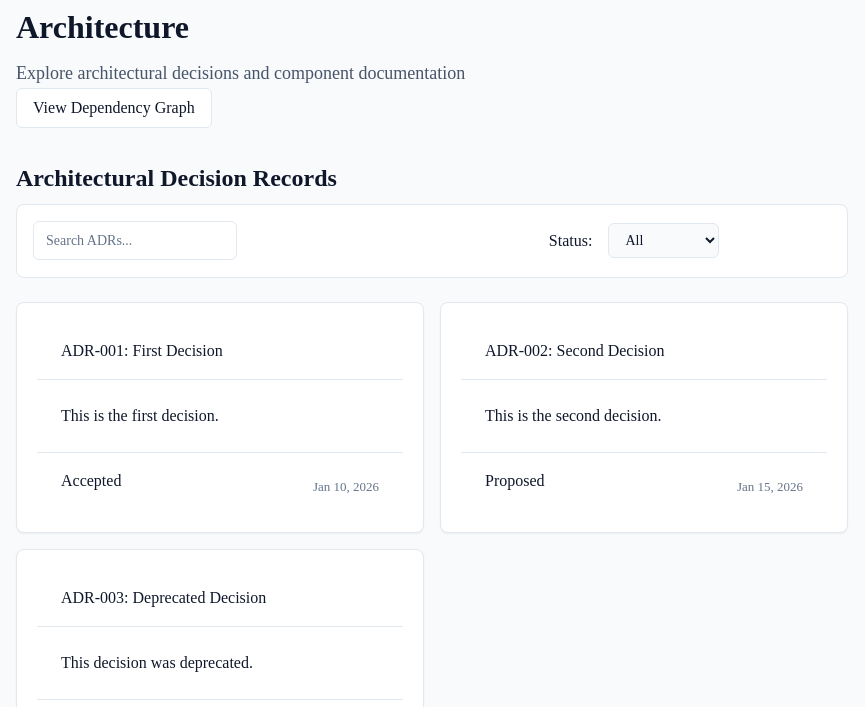
Test: ArchitectureContainer › should clear filters when clear button is clicked
The image size is (865, 707).
Expected: the heading "ADR-001: First Decision" is shown, left=61, top=339, right=223, bottom=363
// Apply a filter
Type "second" into the search field with placeholder "Search ADRs..." at (135, 241), box left=33, top=221, right=237, bottom=260
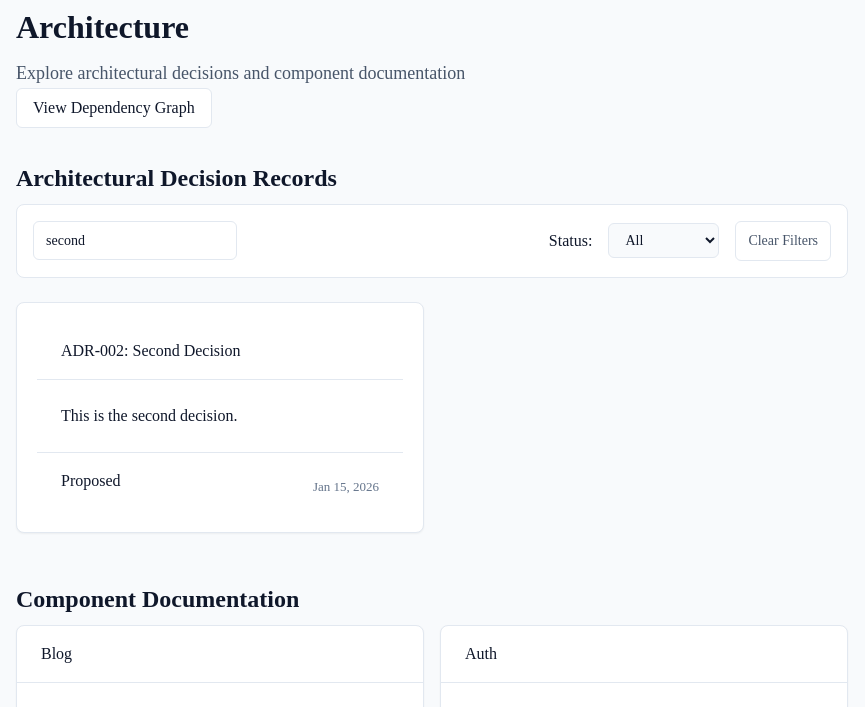
Now the link "ADR-001: First Decision" is gone
// Clear filters
Click the button "Clear Filters" at (783, 241), box left=735, top=221, right=831, bottom=261
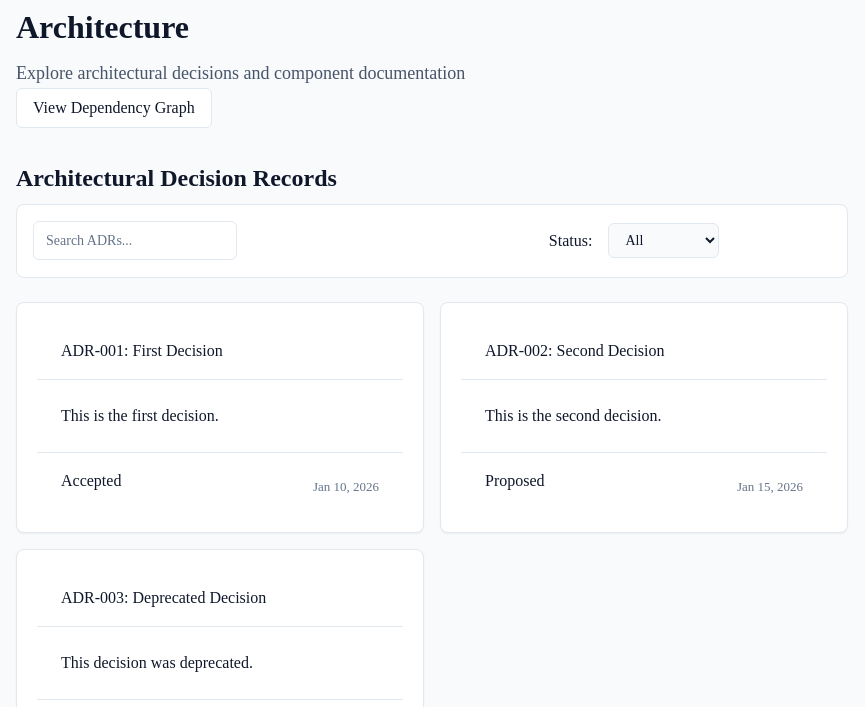
Now the heading "ADR-001: First Decision" is shown, box left=61, top=339, right=223, bottom=363
